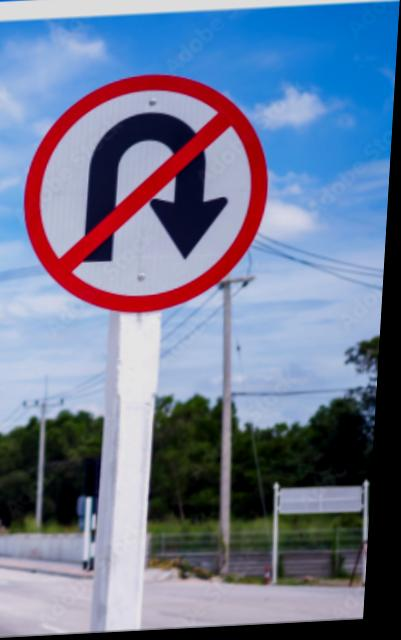not_u_turn_right: (9, 70, 290, 332)
